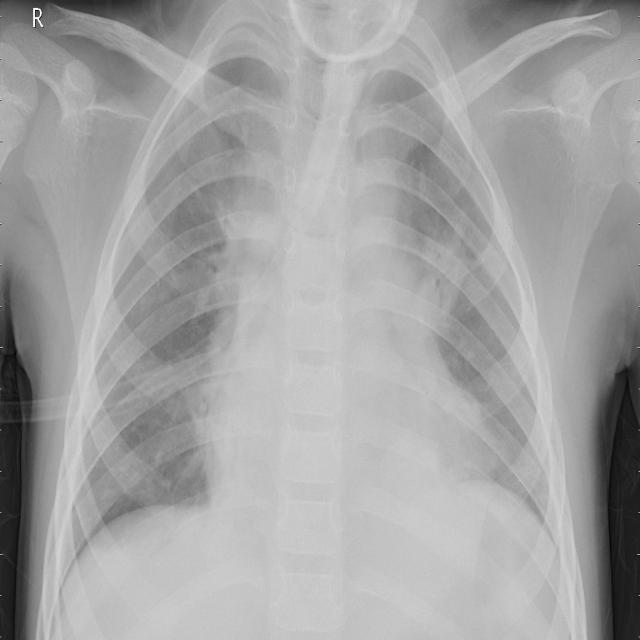high-pneumonia: (349, 101, 417, 266), (209, 84, 272, 229), (425, 229, 481, 324)
